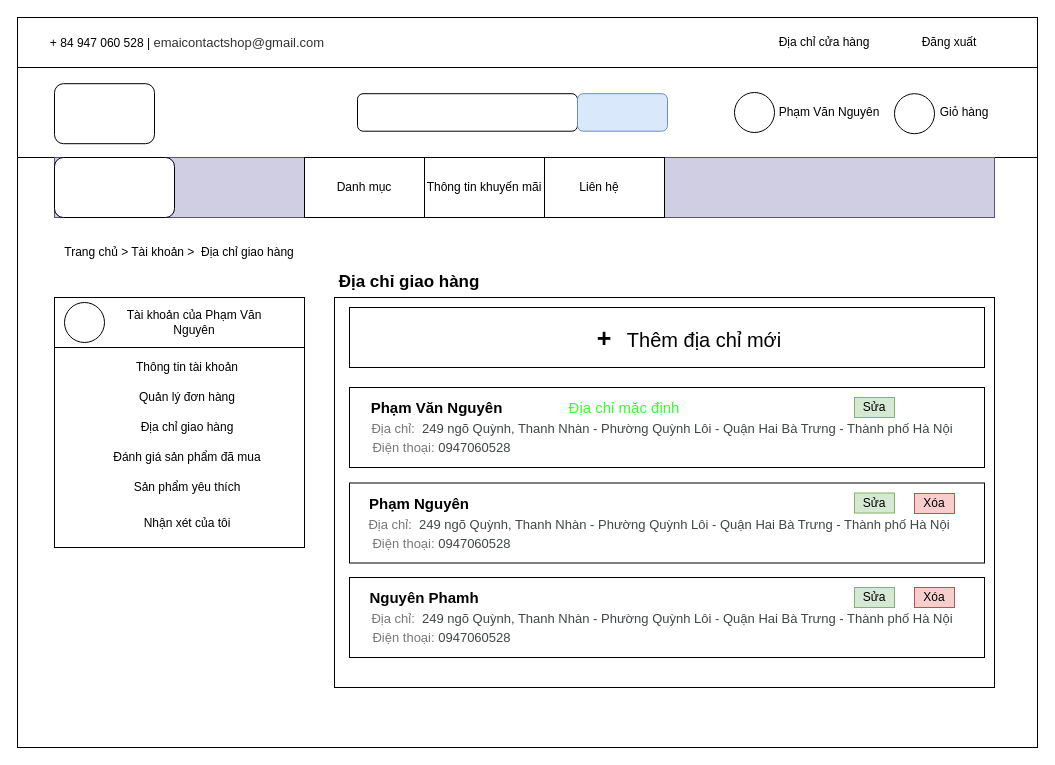
Image size: 1055x765. Some labels were removed from this diagram. Here are the shapes that lost their labels. From the top down, the centre of each, then its label:
pixel 104 113: Logo shop
pixel 114 187: Trang chủ
